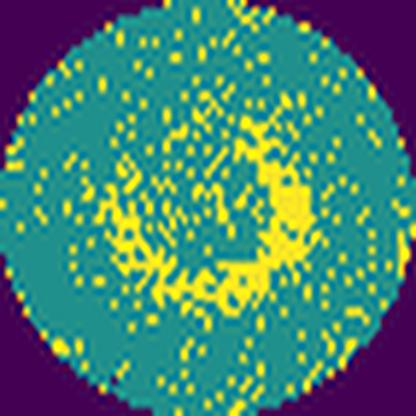Donut: (72, 76, 339, 335)
